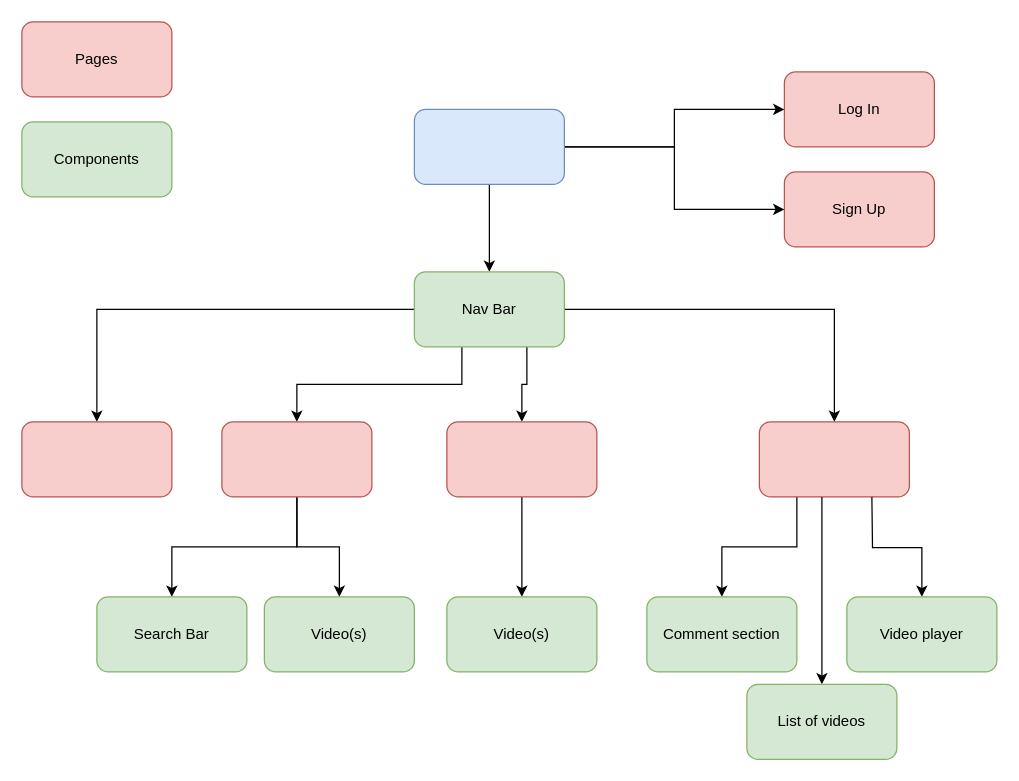
Image size: 1019x781. Some labels were removed from this diagram. The centre of each missing label's shape, as x and y in pixels:
"App" belongs at [488,146].
"Home" belongs at [296,459].
"Playlist/Liked Page" belongs at [521,459].
"User Page" belongs at [96,459].
"Video Page" belongs at [833,459].
